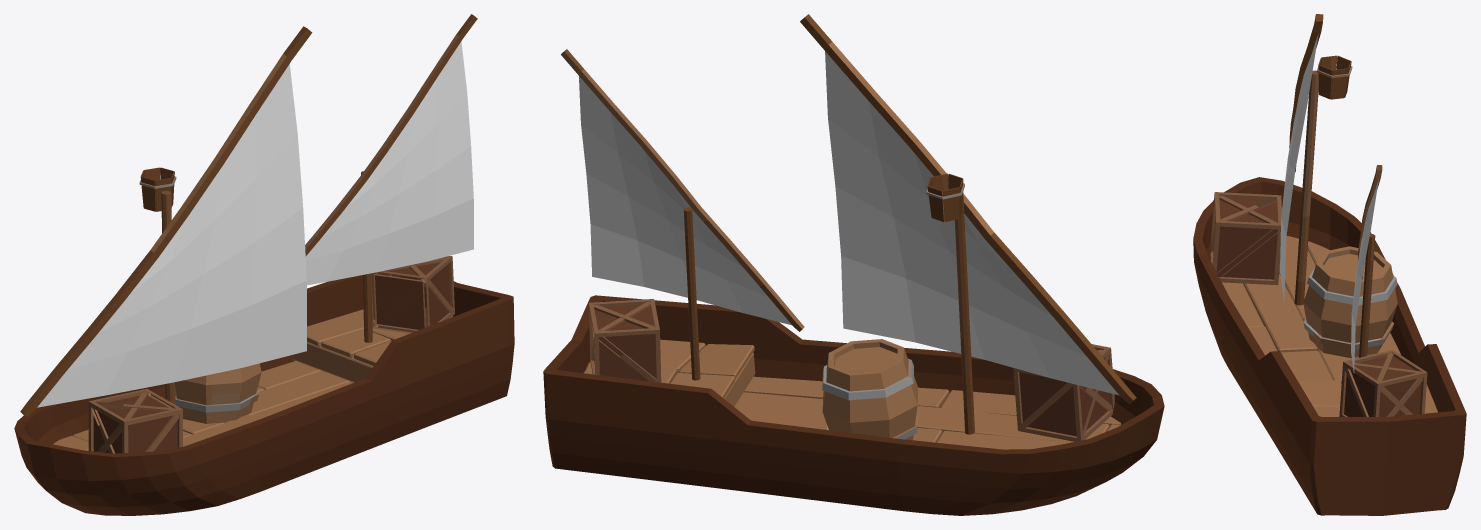
File: Small boat.fbx
3 views of the same model, side by side, from view 1: azimuth 30°, elevation 25°; view 2: azimuth 150°, elevation 25°; view 3: azimuth 270°, elevation 25° (orthographic). The views are drawn at different scales.
Visible parts, largest first — view 1: Cube.130; view 2: Cube.130; view 3: Cube.130.
Boxes of the visible parts, x1,y1,x2,y2 form: Cube.130: [14, 14, 514, 515]; Cube.130: [543, 14, 1164, 515]; Cube.130: [1193, 14, 1466, 515].
Bounding box in the file's own units: 398 × 314 × 188.
